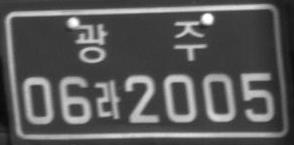0: (160, 71, 199, 124), (201, 72, 237, 123), (21, 75, 55, 126)
2: (123, 73, 160, 123)
5: (239, 71, 276, 123)
6: (58, 75, 92, 125)
광주_D: (73, 20, 208, 64)
라: (93, 79, 122, 120)
